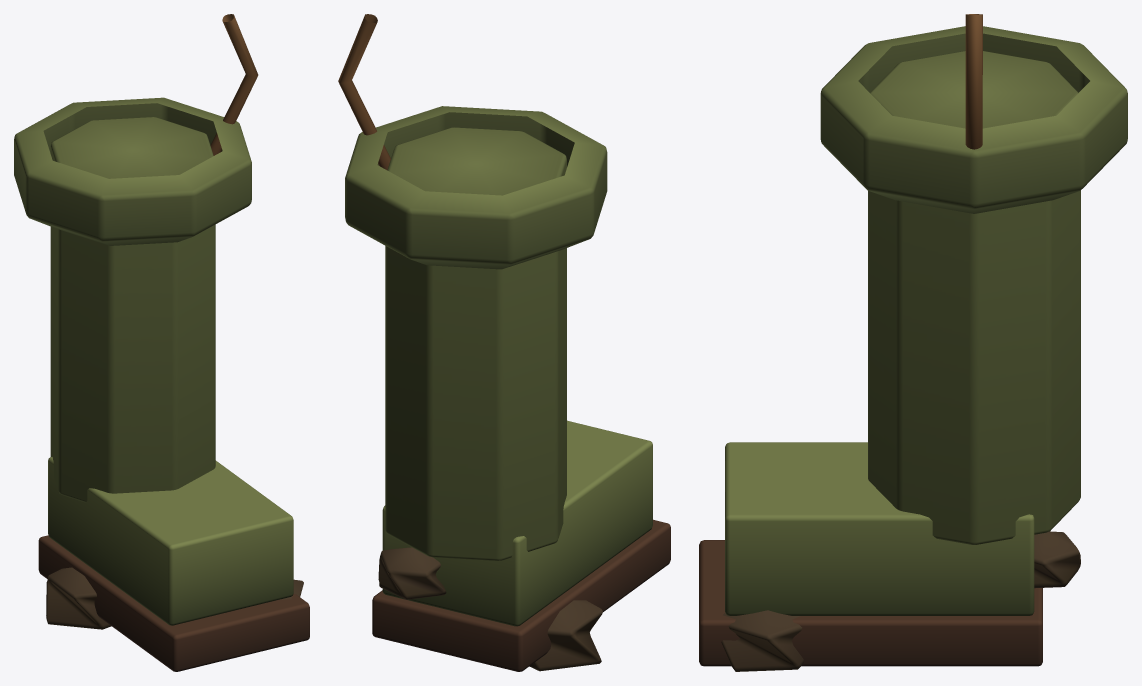
Rendered from lg_mudlark_waders.glb.
The picture shows the model from 3 angles, left to right: view 1: azimuth 30°, elevation 25°; view 2: azimuth 150°, elevation 25°; view 3: azimuth 270°, elevation 25°; orthographic projection. The views are drawn at different scales.
Parts seen in each view (by area): view 1: lg_mudlark_waders; view 2: lg_mudlark_waders; view 3: lg_mudlark_waders.
Part boxes in pixels (left/top/right/bottom): lg_mudlark_waders: left=14, top=14, right=309, bottom=671; lg_mudlark_waders: left=338, top=14, right=670, bottom=671; lg_mudlark_waders: left=699, top=14, right=1127, bottom=671.
Size of the model in its own units: 0.7769 by 1.82 by 0.9973.
